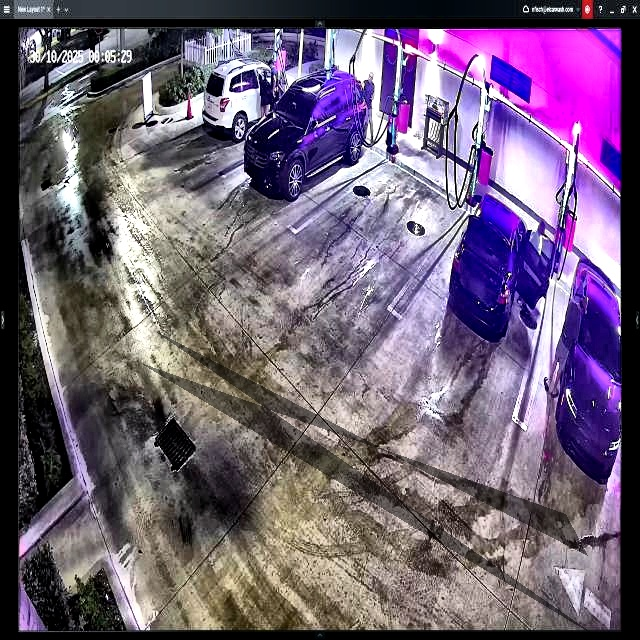Car: (245, 71, 369, 198), (448, 191, 553, 339)
